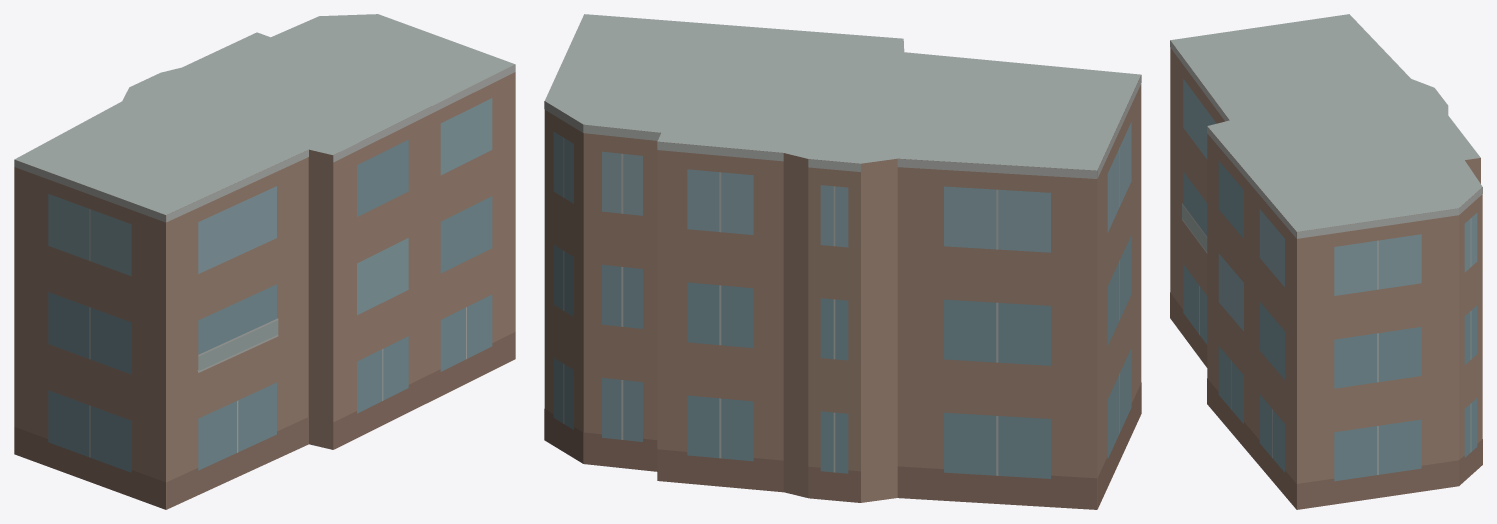
The model's file is survey-upis-32639586.glb.
The picture shows the model from 3 angles, left to right: view 1: azimuth 30°, elevation 25°; view 2: azimuth 150°, elevation 25°; view 3: azimuth 270°, elevation 25°; orthographic projection. The views are drawn at different scales.
Parts seen in each view (by area): view 1: survey-upis-32639586.tmp; view 2: survey-upis-32639586.tmp; view 3: survey-upis-32639586.tmp.
Boxes of the visible parts, x1,y1,x2,y2 form: survey-upis-32639586.tmp: (14,14,515,509); survey-upis-32639586.tmp: (544,14,1141,509); survey-upis-32639586.tmp: (1170,14,1482,509).
Bounding box in the file's own units: 16.32 × 9.7 × 9.9.
